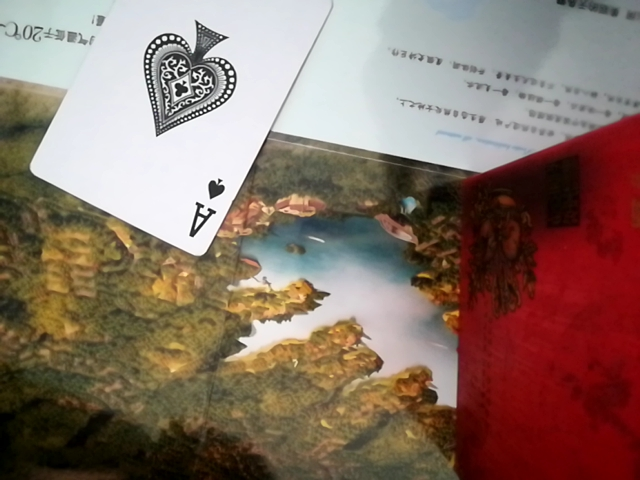ht a: (18, 2, 339, 260)
